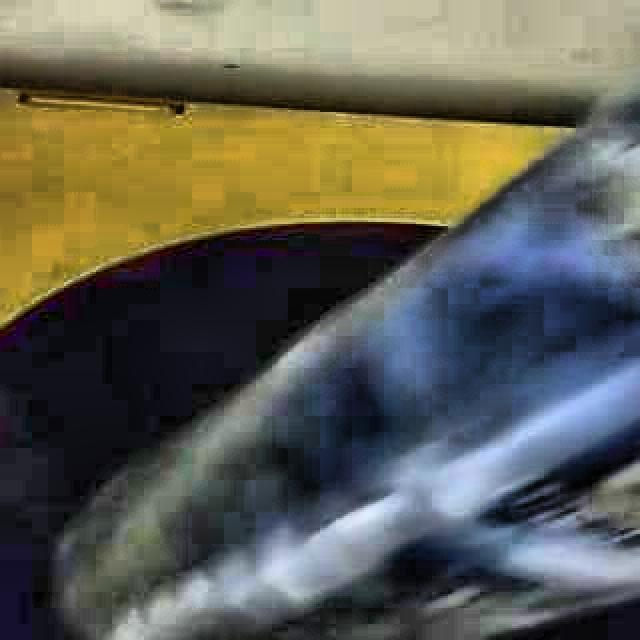plastic: (59, 91, 640, 640)
